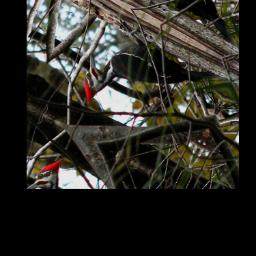Woodpecker: (70, 11, 222, 155)
